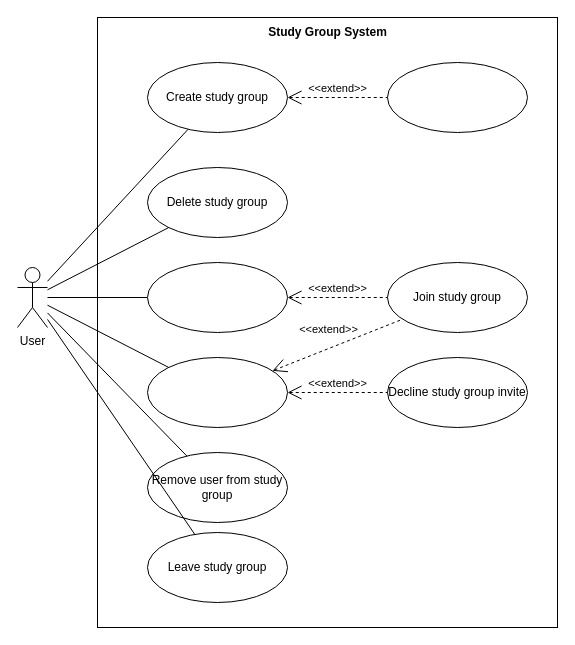
The diagram is 575 pixels wide and 645 high, and some of its shapes have lost their labels. The centre of each missing label's shape, as x and y in pixels:
"Invite users to study group" belongs at point (457, 97).
"Receive study group invite" belongs at point (217, 392).
"Search for study group" belongs at point (217, 297).
